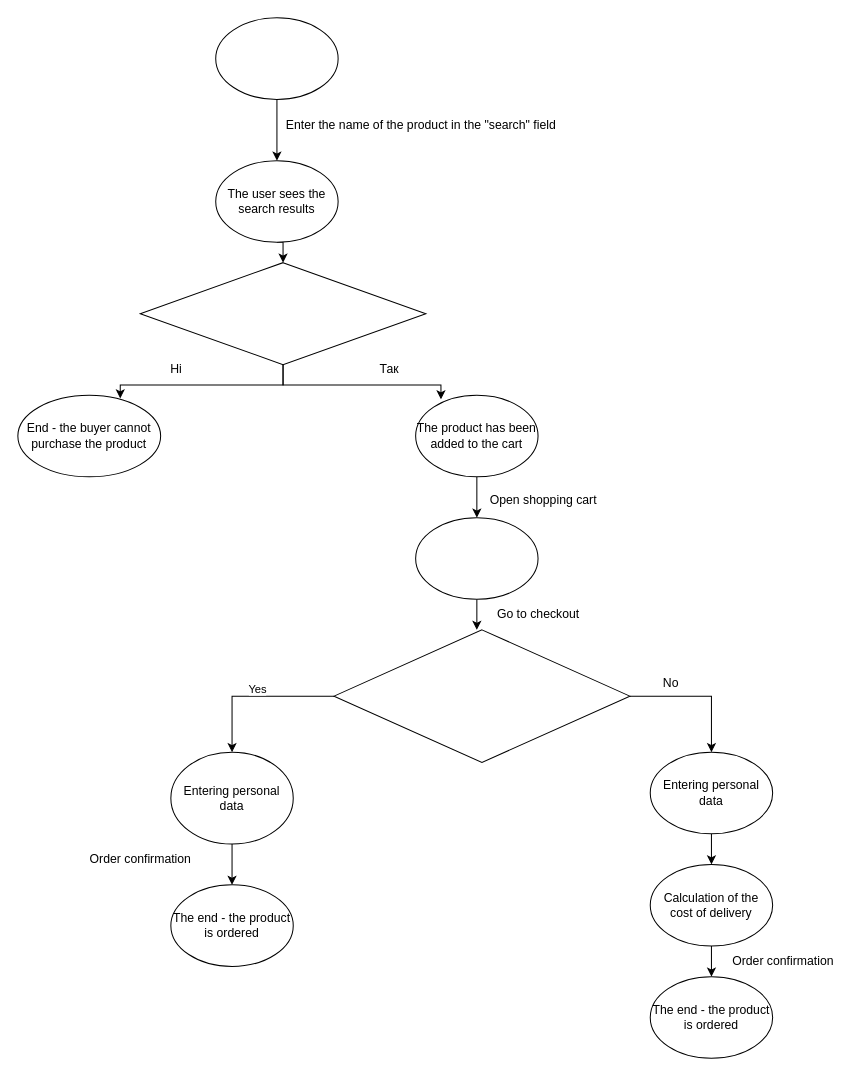
The diagram is 862 pixels wide and 1076 high, and some of its shapes have lost their labels. Here are the shapes that lost their labels. From the top down, the box of each, then its label:
(215, 17, 338, 99): User authorization
(139, 262, 426, 365): Is the product available for order?
(415, 517, 538, 599): The basket is open, the product is in it
(333, 629, 630, 762): Are the conditions for free shipping fulfilled?
